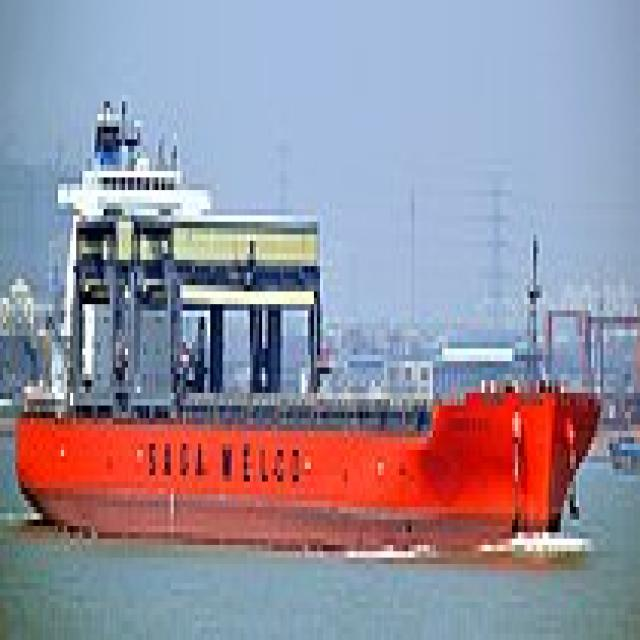Cargo: (9, 89, 604, 551)
